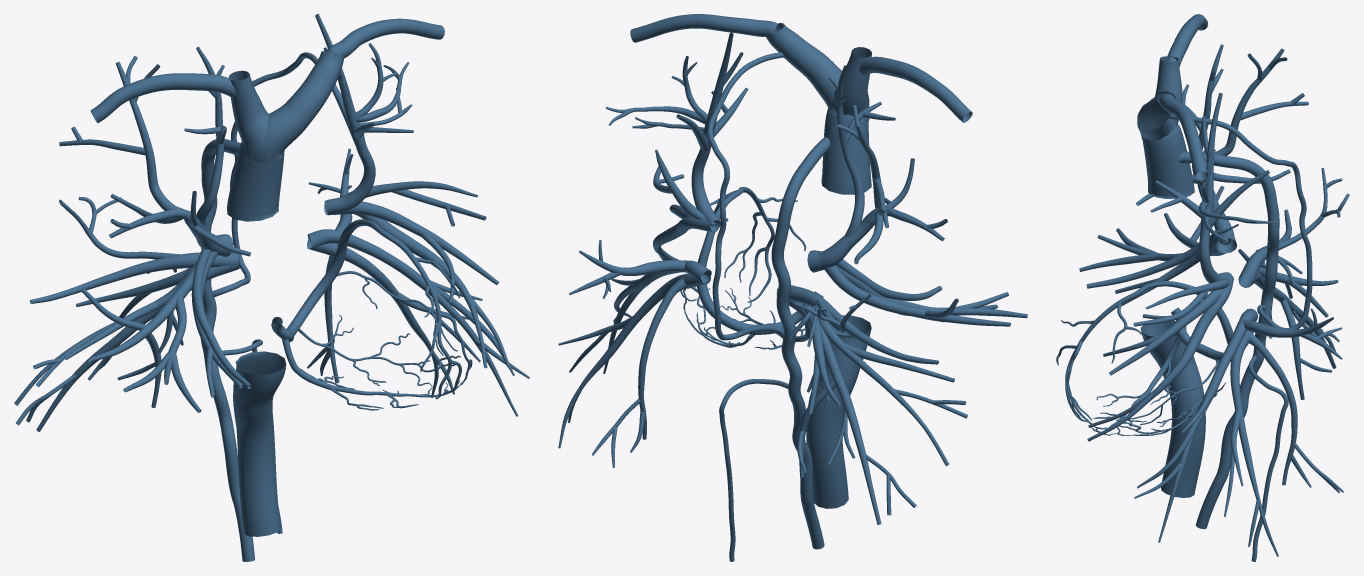
Rendered from thorax-veins-mobile.glb.
The picture shows the model from 3 angles, left to right: view 1: azimuth 30°, elevation 25°; view 2: azimuth 150°, elevation 25°; view 3: azimuth 270°, elevation 25°; orthographic projection. The views are drawn at different scales.
Parts seen in each view (by area): view 1: za.inferior-vena-cava-thoracic-part, za.azygos-vein, za.apicoposterior-vein-of-left-lung, za.left-brachiocephalic-vein, za.superior-vein-of-left-lung, za.lateral-vein-of-right-lung, za.posterior-vein-of-right-lung, za.superior-vena-cava, za.superior-basal-vein-of-right-lung, za.superior-vein-of-right-lung, za.inferior-basal-vein-of-right-lung, za.great-cardiac-vein (+18 smaller); view 2: za.azygos-vein, za.inferior-vena-cava-thoracic-part, za.apicoposterior-vein-of-left-lung, za.superior-basal-vein-of-right-lung, za.inferior-basal-vein-of-right-lung, za.lateral-vein-of-right-lung, za.left-brachiocephalic-vein, za.superior-vena-cava, za.superior-vein-of-left-lung, za.accessory-hemi-azygos-vein, za.left-subclavian-vein, za.superior-basal-vein-of-left-lung (+14 smaller); view 3: za.azygos-vein, za.inferior-vena-cava-thoracic-part, za.superior-vein-of-left-lung, za.apicoposterior-vein-of-left-lung, za.superior-vena-cava, za.superior-basal-vein-of-left-lung, za.great-cardiac-vein, za.accessory-hemi-azygos-vein, za.posterior-vein-of-right-lung, za.lateral-vein-of-right-lung, za.inferior-lingular-vein-of-left-lung, za.medial-vein-of-right-lung (+18 smaller).
Boxes of the visible parts, left/top/right/bottom form: za.inferior-vena-cava-thoracic-part: left=233, top=351, right=286, bottom=536; za.azygos-vein: left=200, top=139, right=254, bottom=561; za.apicoposterior-vein-of-left-lung: left=315, top=14, right=413, bottom=206; za.left-brachiocephalic-vein: left=240, top=51, right=344, bottom=163; za.superior-vein-of-left-lung: left=308, top=148, right=529, bottom=416; za.lateral-vein-of-right-lung: left=80, top=262, right=201, bottom=412; za.posterior-vein-of-right-lung: left=59, top=56, right=187, bottom=238; za.superior-vena-cava: left=227, top=144, right=284, bottom=221; za.superior-basal-vein-of-right-lung: left=14, top=267, right=192, bottom=405; za.superior-vein-of-right-lung: left=29, top=196, right=192, bottom=303; za.inferior-basal-vein-of-right-lung: left=16, top=289, right=191, bottom=431; za.great-cardiac-vein: left=330, top=219, right=472, bottom=397; za.azygos-vein: left=771, top=136, right=830, bottom=549; za.inferior-vena-cava-thoracic-part: left=806, top=315, right=871, bottom=508; za.apicoposterior-vein-of-left-lung: left=605, top=32, right=748, bottom=208; za.superior-basal-vein-of-right-lung: left=795, top=287, right=967, bottom=466; za.inferior-basal-vein-of-right-lung: left=797, top=311, right=916, bottom=524; za.lateral-vein-of-right-lung: left=824, top=266, right=1027, bottom=326; za.left-brachiocephalic-vein: left=765, top=23, right=869, bottom=122; za.superior-vena-cava: left=821, top=111, right=871, bottom=194; za.superior-vein-of-left-lung: left=569, top=240, right=686, bottom=373; za.accessory-hemi-azygos-vein: left=707, top=52, right=784, bottom=340; za.left-subclavian-vein: left=630, top=14, right=777, bottom=42; za.superior-basal-vein-of-left-lung: left=558, top=274, right=688, bottom=448; za.azygos-vein: left=1179, top=151, right=1279, bottom=529; za.inferior-vena-cava-thoracic-part: left=1140, top=320, right=1205, bottom=497; za.superior-vein-of-left-lung: left=1134, top=308, right=1342, bottom=542; za.apicoposterior-vein-of-left-lung: left=1150, top=93, right=1274, bottom=283; za.superior-vena-cava: left=1143, top=126, right=1194, bottom=198; za.superior-basal-vein-of-left-lung: left=1224, top=331, right=1278, bottom=556; za.great-cardiac-vein: left=1056, top=281, right=1233, bottom=423; za.accessory-hemi-azygos-vein: left=1167, top=114, right=1312, bottom=329; za.posterior-vein-of-right-lung: left=1203, top=48, right=1308, bottom=183; za.lateral-vein-of-right-lung: left=1079, top=186, right=1230, bottom=271; za.inferior-lingular-vein-of-left-lung: left=1087, top=305, right=1219, bottom=441; za.medial-vein-of-right-lung: left=1086, top=234, right=1230, bottom=306.
Size of the model in its own units: 0.233 by 0.2728 by 0.1522.
